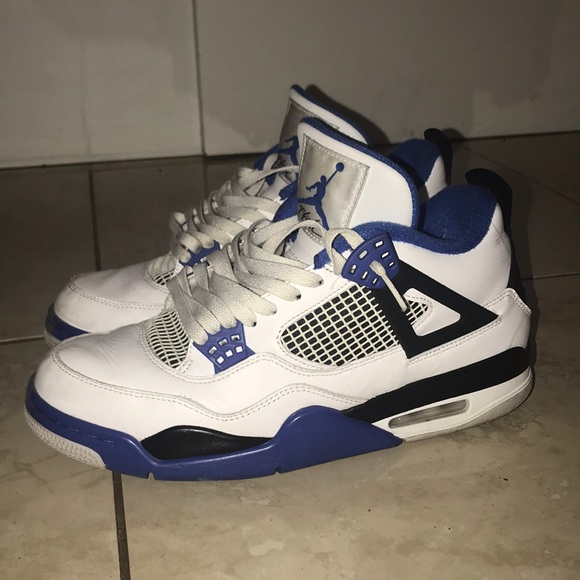Air Jordan 4 Motorsport: (12, 114, 542, 496)
